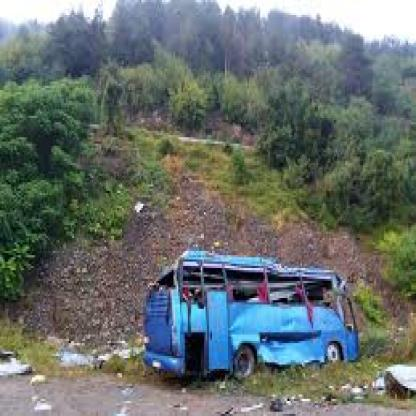accident: (132, 244, 384, 396)
